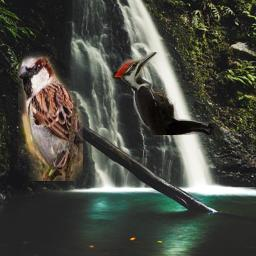Sparrow: (18, 51, 83, 181)
Woodpecker: (108, 52, 214, 135)
